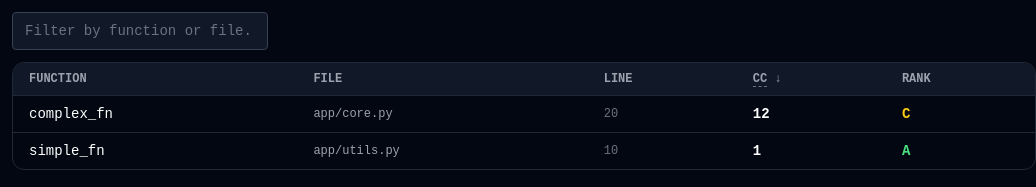
Test: ComplexityTable › filters by function name
Type "complex" into the field with placeholder "Filter by function or file...".
click(140, 31); type("complex")  # box [12,12,268,50]
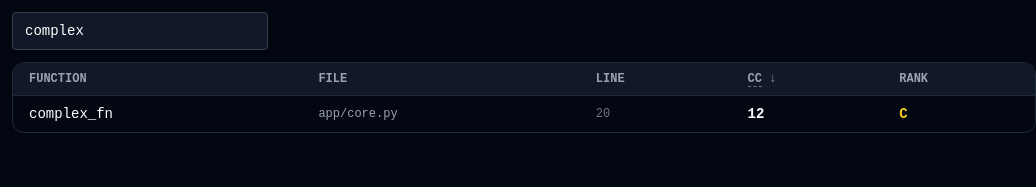
Expected: the text "complex_fn" is shown, [13,96,302,132]
Now the text "simple_fn" is gone
